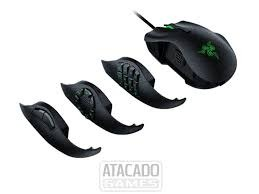mouse: (141, 18, 239, 87)
